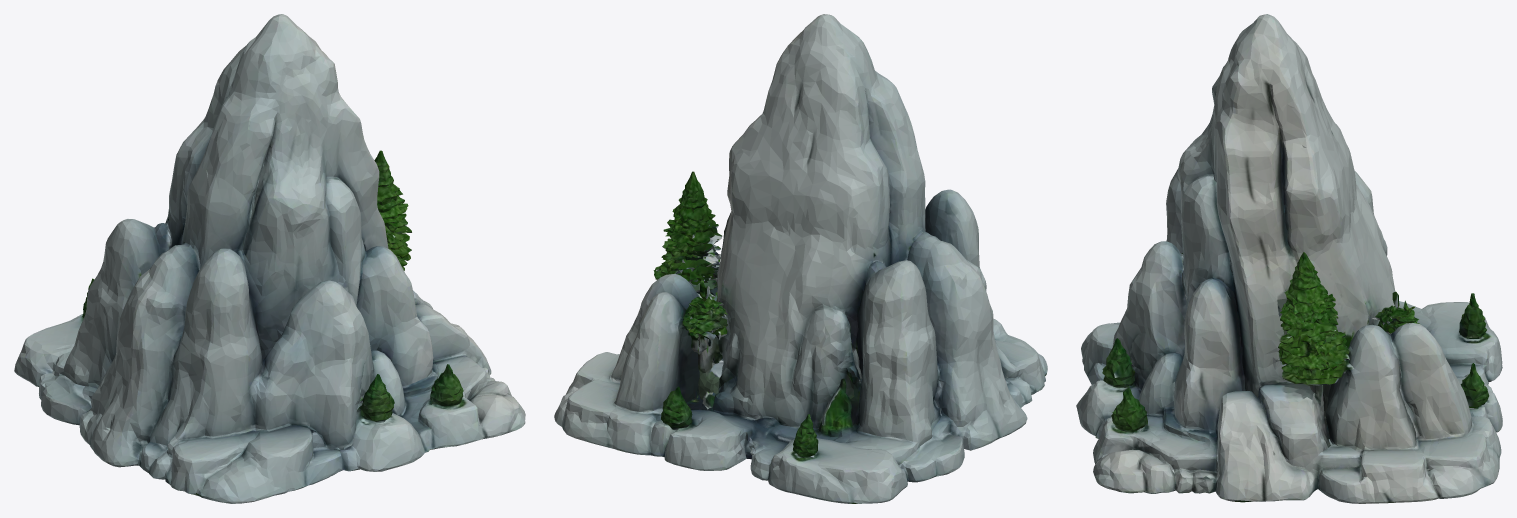
File: liyue_rock_spire.glb
3 renders of one model, left to right at view 1: azimuth 30°, elevation 25°; view 2: azimuth 150°, elevation 25°; view 3: azimuth 270°, elevation 25°, orthographic. The views are drawn at different scales.
Parts seen in each view (by area): view 1: tmpdgbkruef.ply; view 2: tmpdgbkruef.ply; view 3: tmpdgbkruef.ply.
Part boxes in pixels (box(x1,y1,x2,y2)): tmpdgbkruef.ply: box(14, 14, 525, 503); tmpdgbkruef.ply: box(554, 14, 1047, 503); tmpdgbkruef.ply: box(1076, 14, 1502, 503).
Size of the model in its own units: 1.99 by 1.92 by 1.89.
1 material, 1 textured.
